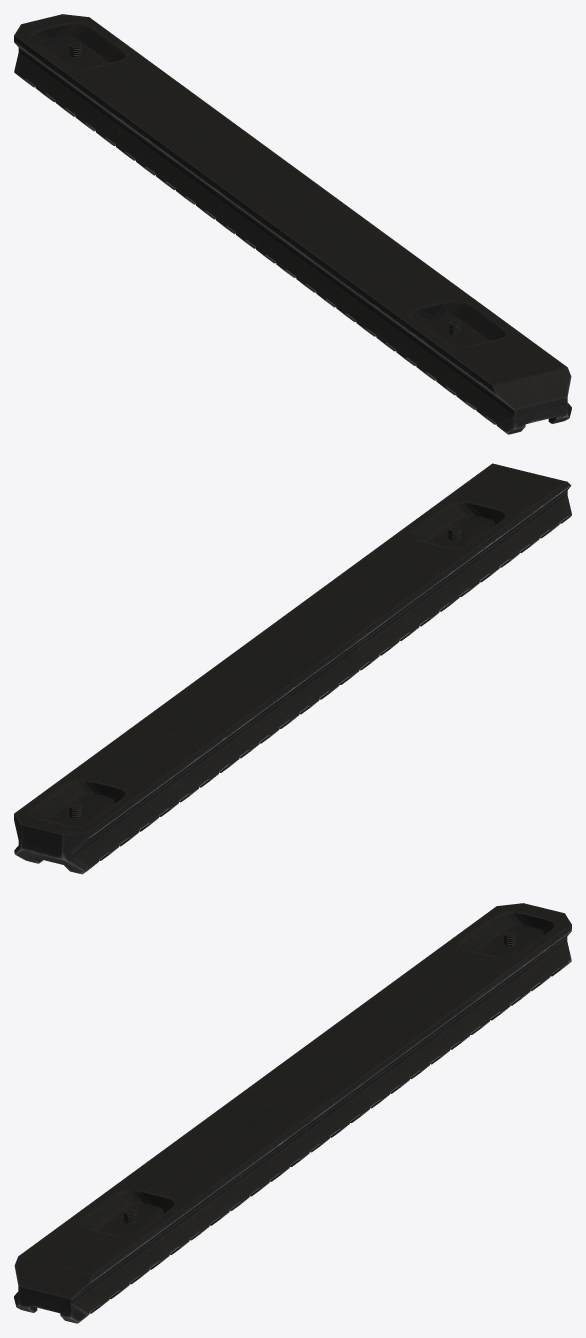
3 renders of one model, top to bottom at view 1: azimuth 30°, elevation 25°; view 2: azimuth 150°, elevation 25°; view 3: azimuth 330°, elevation 25°, orthographic.
Visible parts, largest first — view 1: TW_5f2aa49f9b44de6b1b4e68d4_PZ_Import; view 2: TW_5f2aa49f9b44de6b1b4e68d4_PZ_Import; view 3: TW_5f2aa49f9b44de6b1b4e68d4_PZ_Import.
Part boxes in pixels (x1=…): TW_5f2aa49f9b44de6b1b4e68d4_PZ_Import: x1=14, y1=14, x2=571, y2=434; TW_5f2aa49f9b44de6b1b4e68d4_PZ_Import: x1=14, y1=463, x2=571, y2=874; TW_5f2aa49f9b44de6b1b4e68d4_PZ_Import: x1=14, y1=903, x2=571, y2=1323.
Bounding box in the file's own units: 0.0126 × 0.144 × 0.00744.
Materials: 1 (1 with a texture image).
